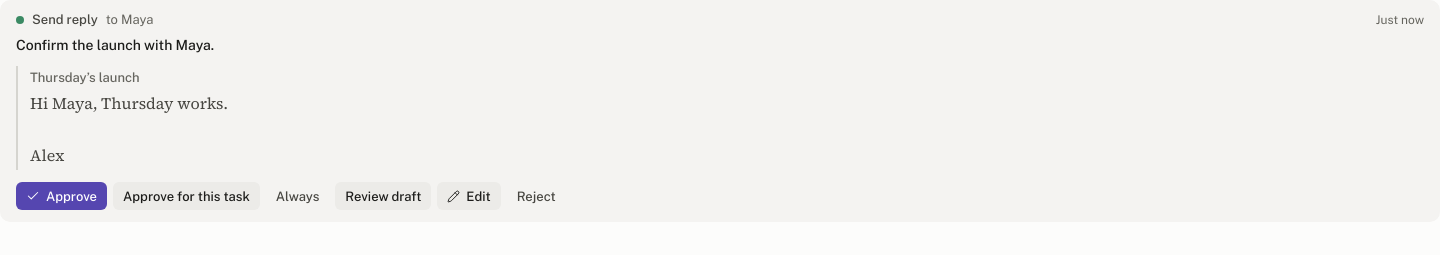
it: DecisionCard › keeps the draft and displays an actionable error when approval fails
Click the button "Approve": (62, 196) [16,182,107,210]
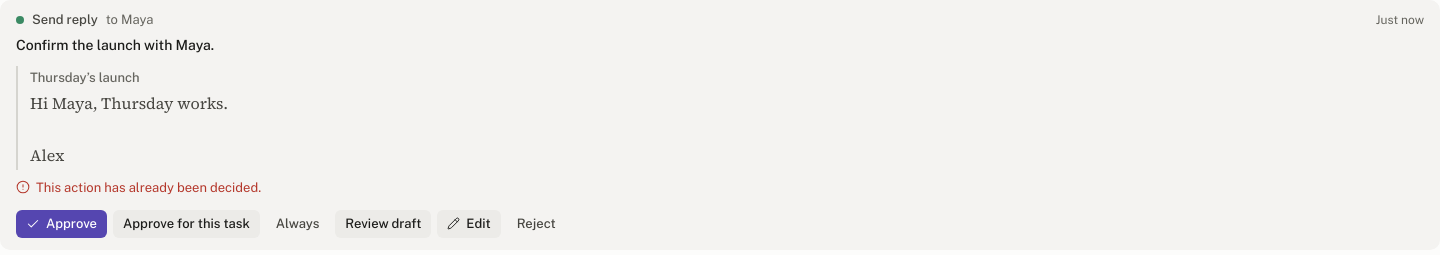
expect the text "Hi Maya, Thursday works. Alex" is shown: met, box [30,92,228,166]
expect the message shows "already been decided": met, box [36,180,261,195]
